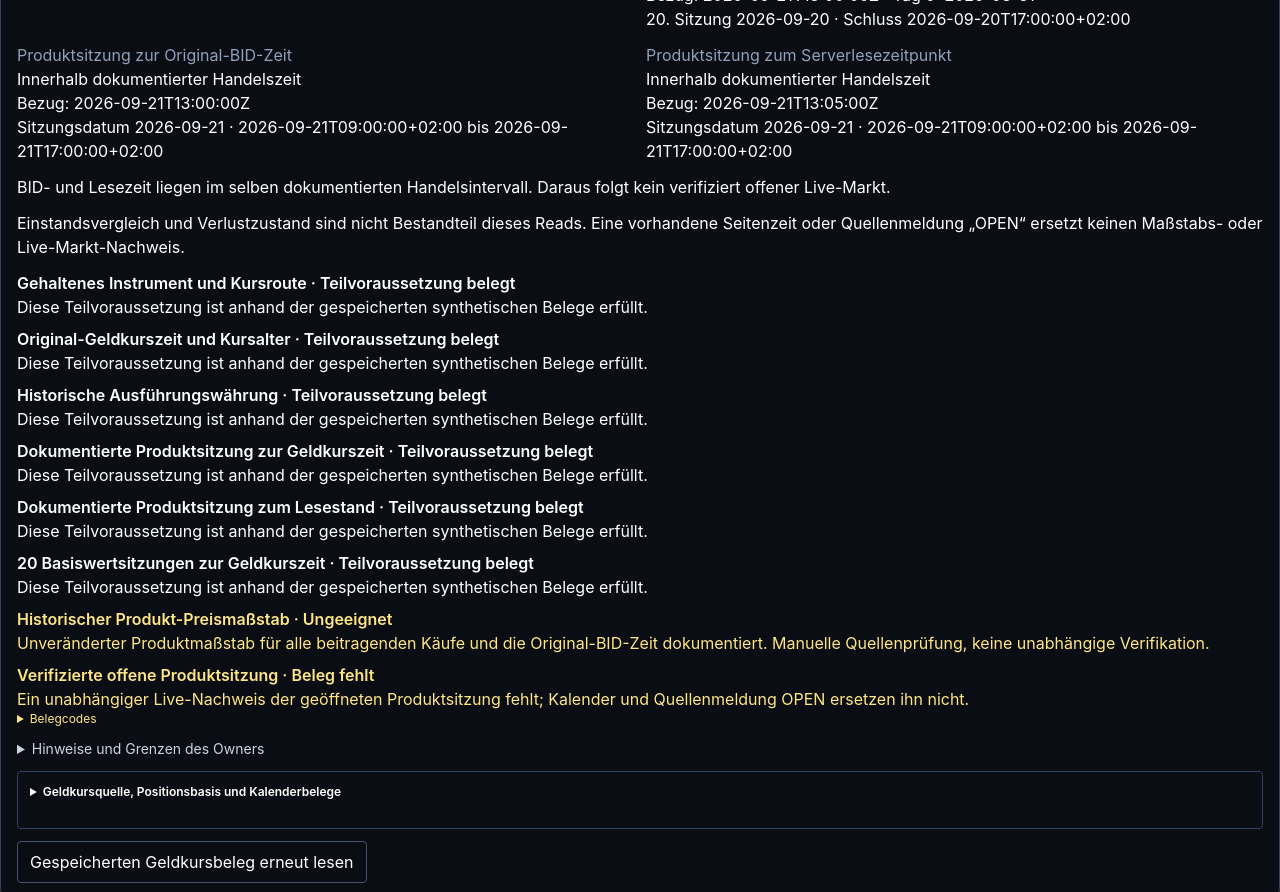
shows ADJUSTMENT_REQUIRED without applying a factor or hiding the original document
The image size is (1280, 892).
(page scrolled)
Expected: the text "Historischer Produkt-Preismaßstab · Ungeeignet" is shown, [17,609,392,629]
Click the heading "Geldkursquelle, Positionsbasis und Kalenderbelege". click: [192, 792]
box: [43,784,341,799]
(page scrolled)
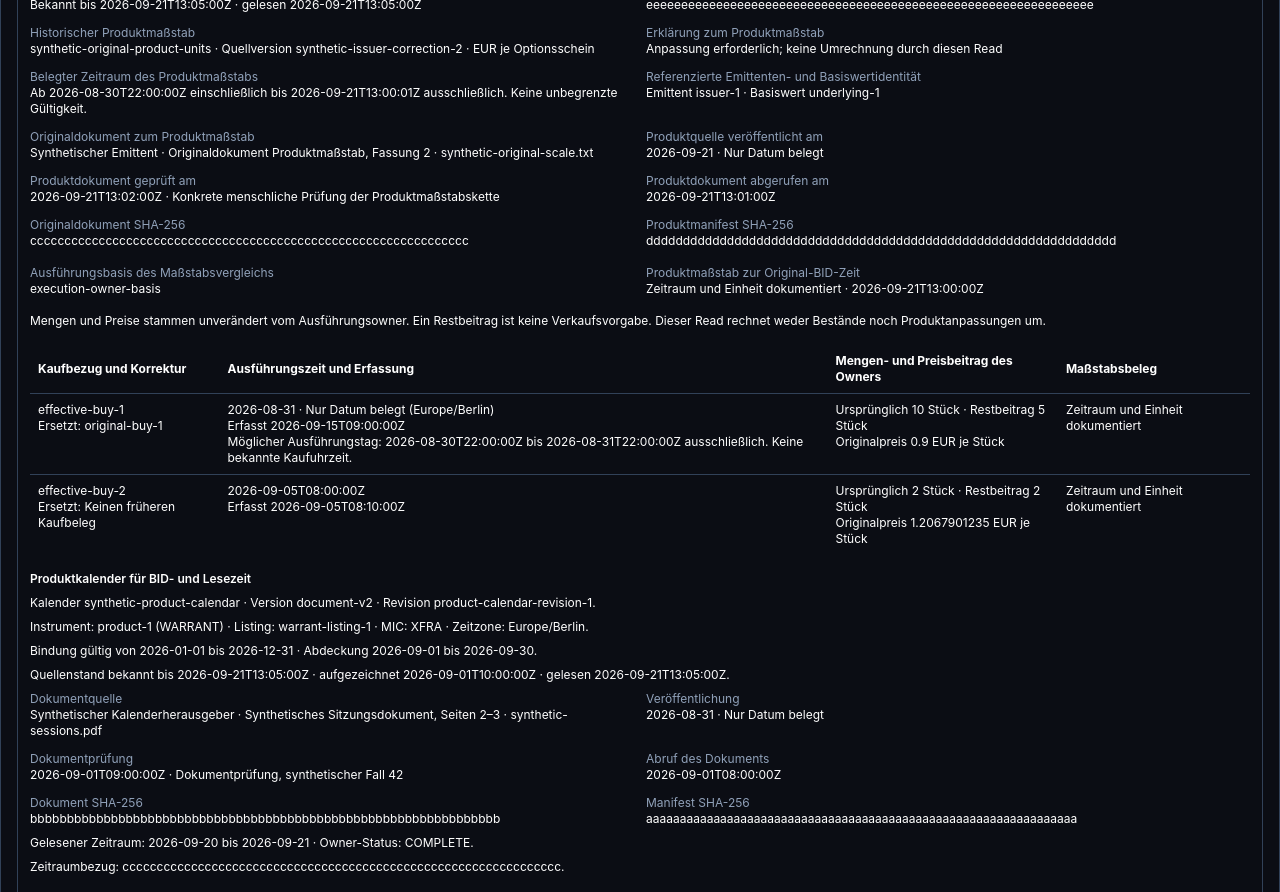
Now the text "Anpassung erforderlich; keine Umrechnung durch diesen Read" is shown, box [646,41,1003,56]
Now the text "Dieser Read rechnet weder Bestände noch Produktanpassungen um" is shown, box [30,313,1046,328]
